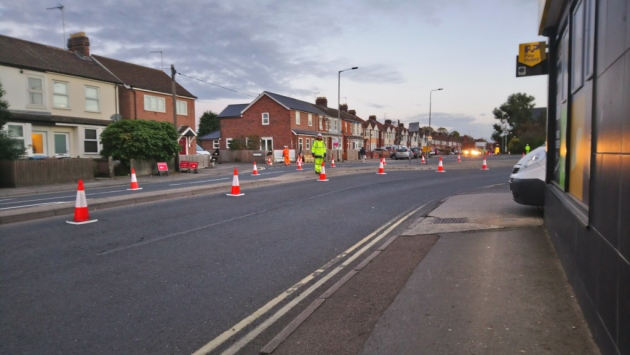cone: (57, 176, 104, 231), (224, 168, 245, 198), (125, 169, 146, 194), (314, 162, 331, 186), (432, 157, 449, 173), (475, 156, 491, 171), (374, 158, 387, 175), (248, 161, 261, 177), (291, 157, 305, 171), (452, 151, 465, 163), (415, 153, 427, 163)
